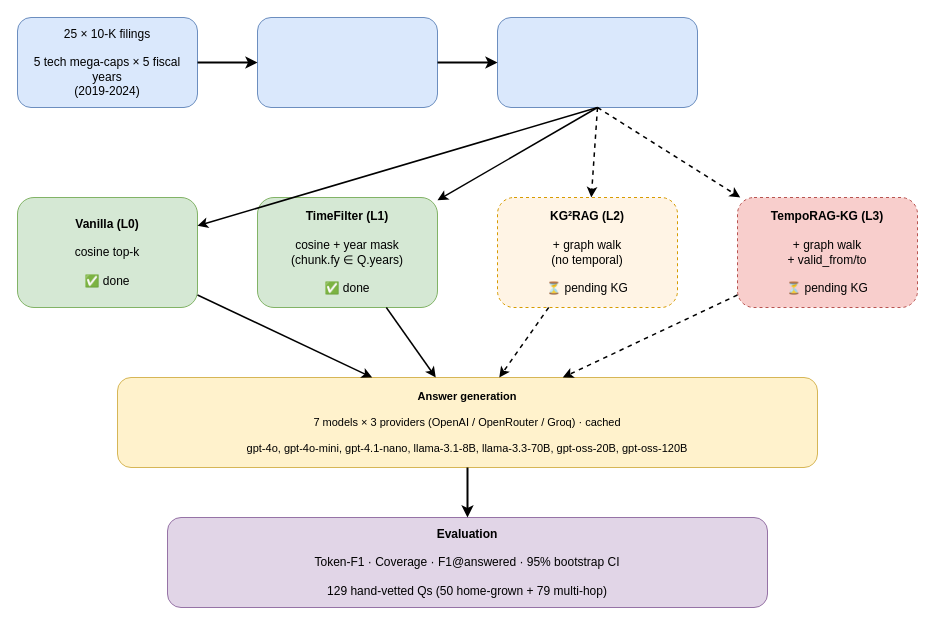
Some shapes in this 935 by 625 pixel diagram are drawn without their labels. Each missing label, with the centre of its shape:
"7,467 chunks Item-level segmentation (~1K tokens each)" belongs at (347,62).
"Embedding index text-embedding-3-small (cached, ~$0.07)" belongs at (597,62).
